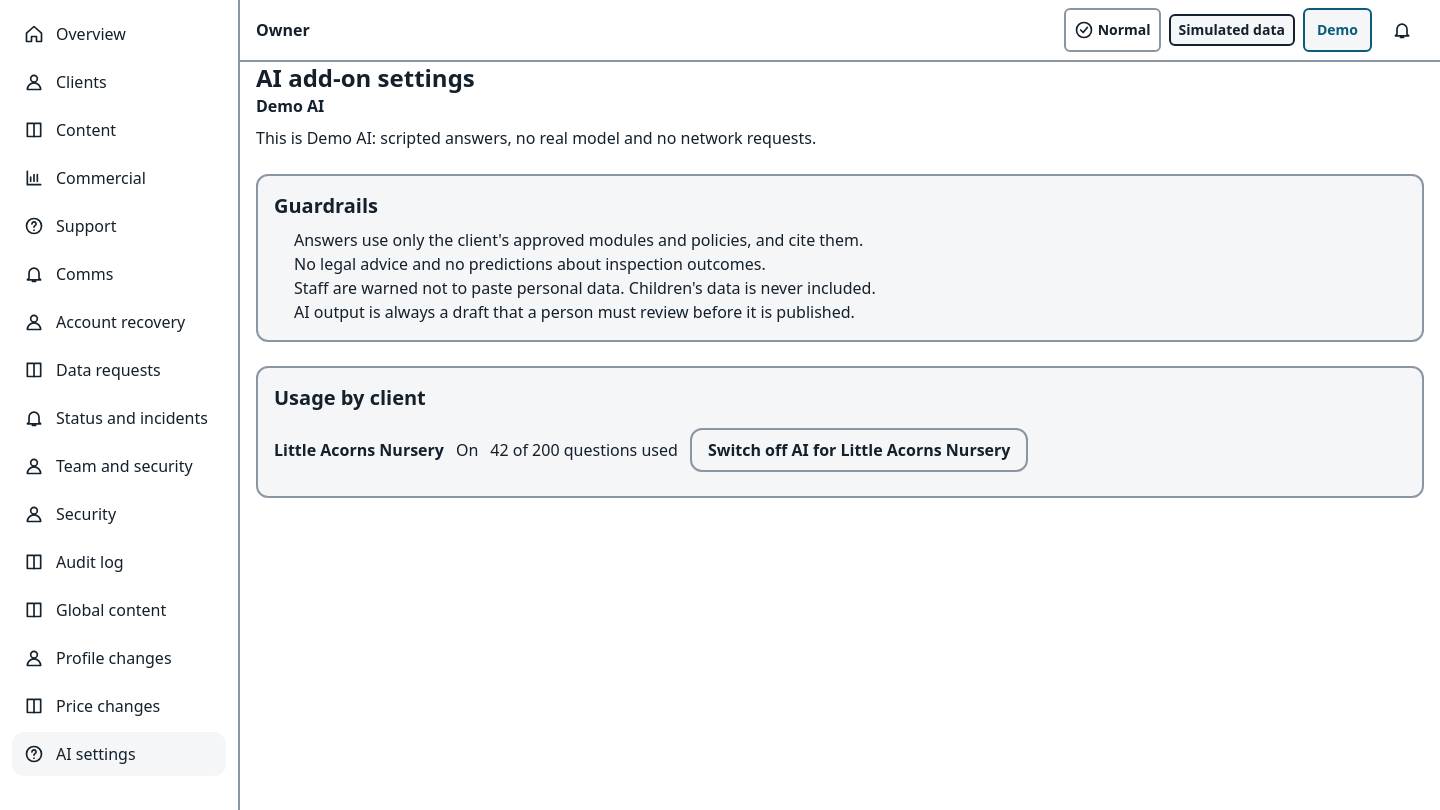
it: P22 AI add-on settings › switches AI back on again
Expected: the heading "AI add-on settings" is shown, [256, 62, 475, 94]
Expected: the list item with test id "ai-client-row" is shown, [274, 428, 1028, 472]
Click the button "Switch off AI for Little Acorns Nursery" at (859, 450), box [690, 428, 1028, 472]
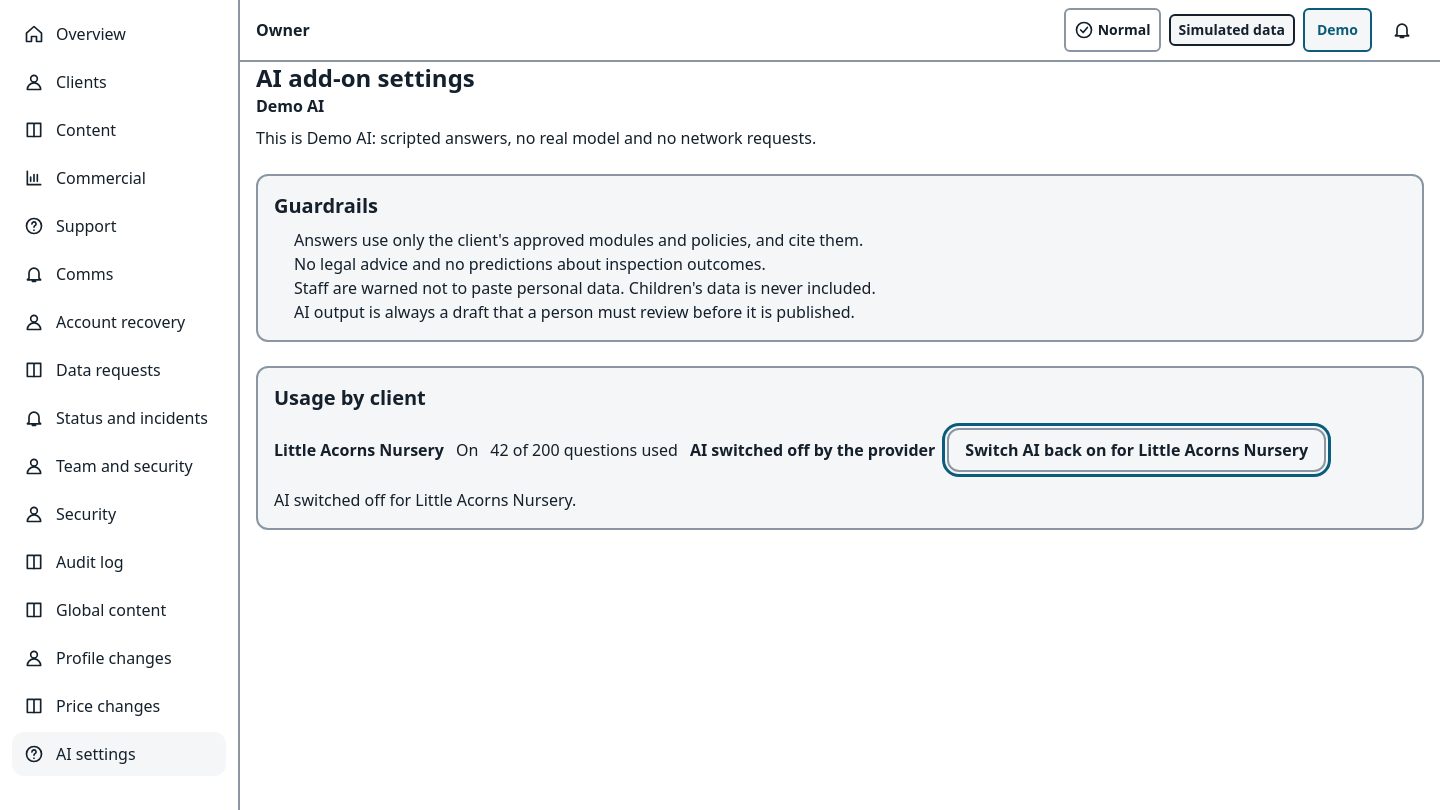
Click the button "Switch AI back on for Little Acorns Nursery" at (1137, 450), box [947, 428, 1326, 472]
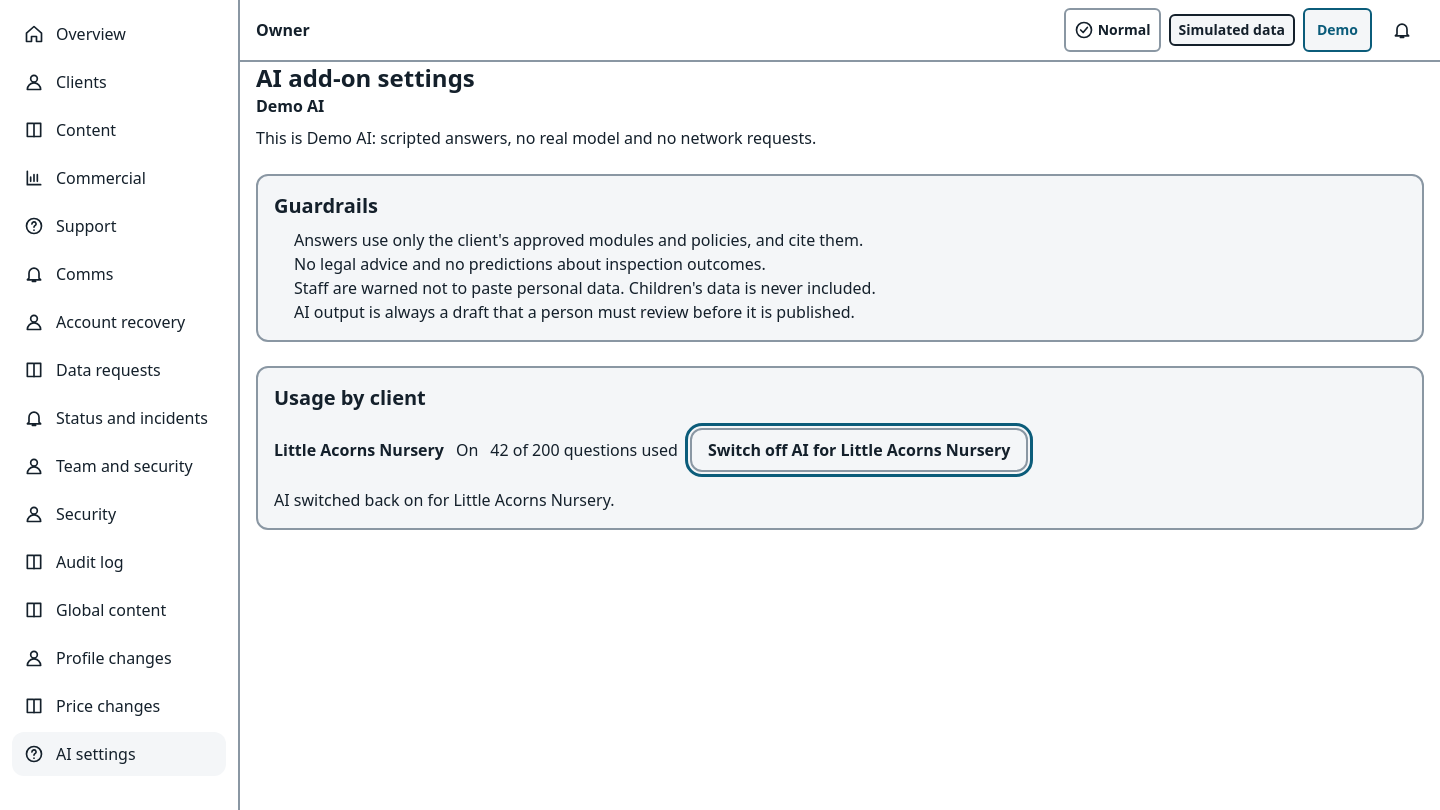
Expected: the list item with test id "ai-client-row" is shown, [274, 428, 1028, 472]
Now the text with test id "ai-client-row" no longer shows "AI switched off by the provider"
